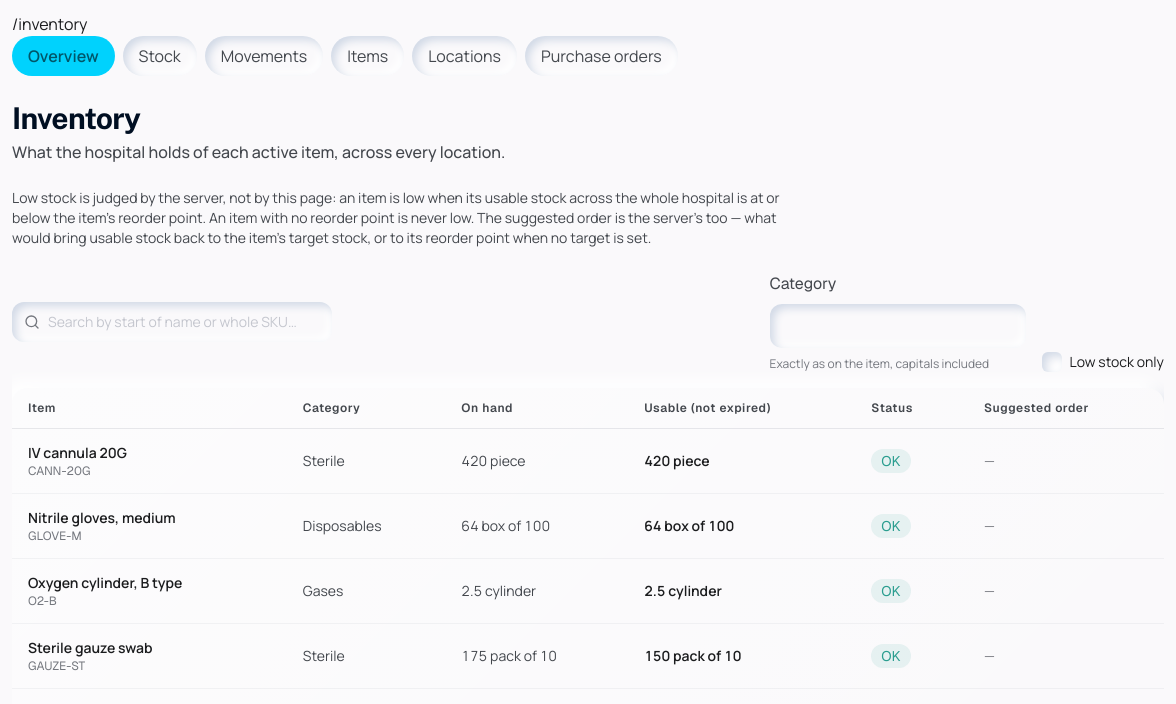
Test case: inventory overview › puts low_stock on the wire only while the toggle is on, and keeps it in the address
Click the checkbox named "Low stock only": (1052, 362) [1042,352,1062,372]
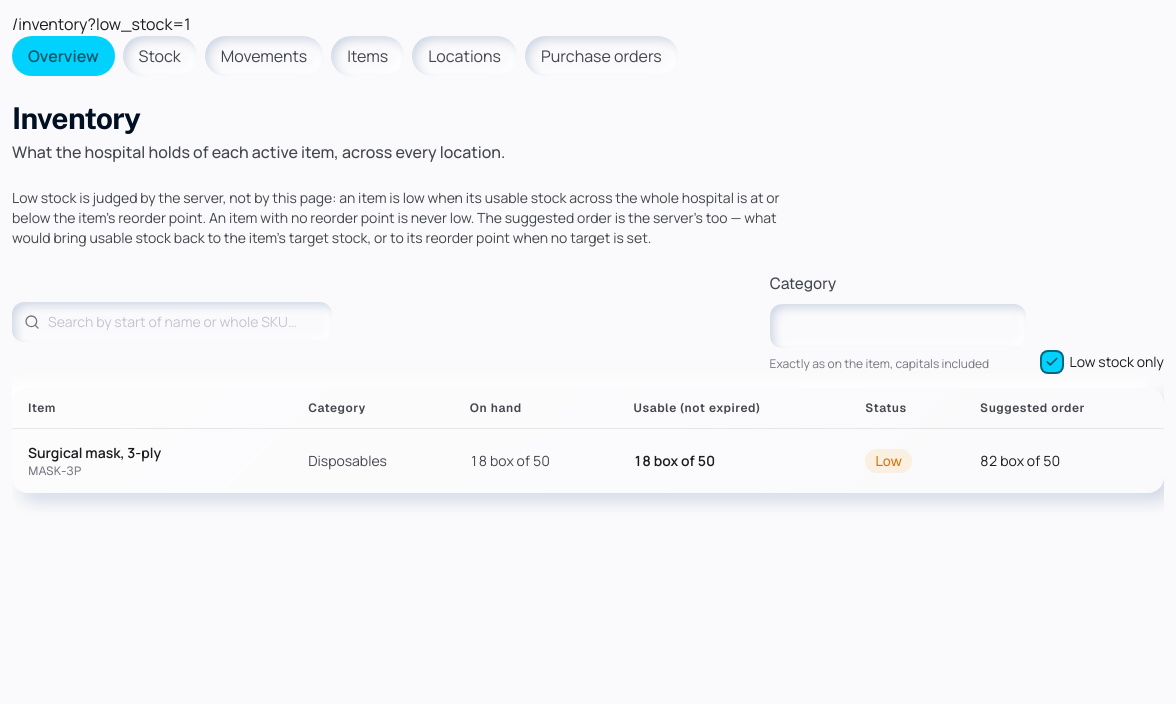
expect the link "IV cannula 20G" is gone: met
expect the row "Surgical mask" is shown: met, box [12,428,1164,493]
expect the text named "address" reads "/inventory?low_stock=1": met, box [12,13,191,35]
Click the checkbox named "Low stock only": (1052, 362) [1042,352,1062,372]
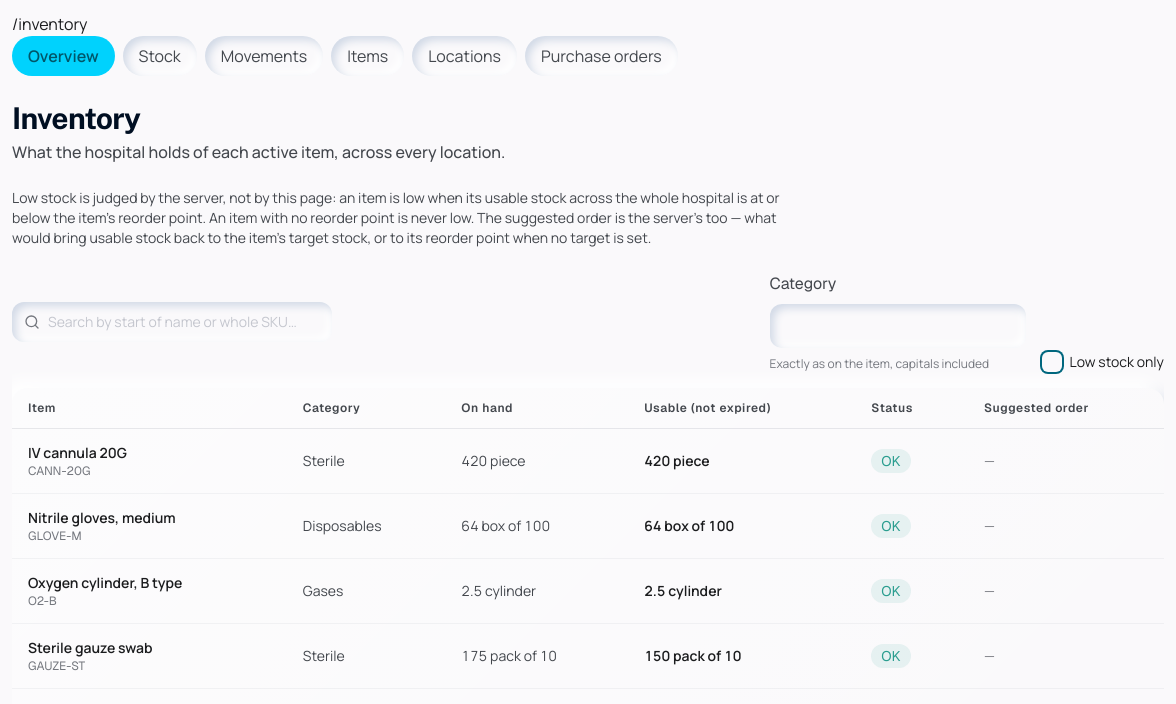
expect the text named "address" reads "/inventory": met, box [12,13,88,35]
expect the row "IV cannula 20G CANN-20G Sterile 420 piece 420 piece OK —" is shown: met, box [12,428,1164,494]
